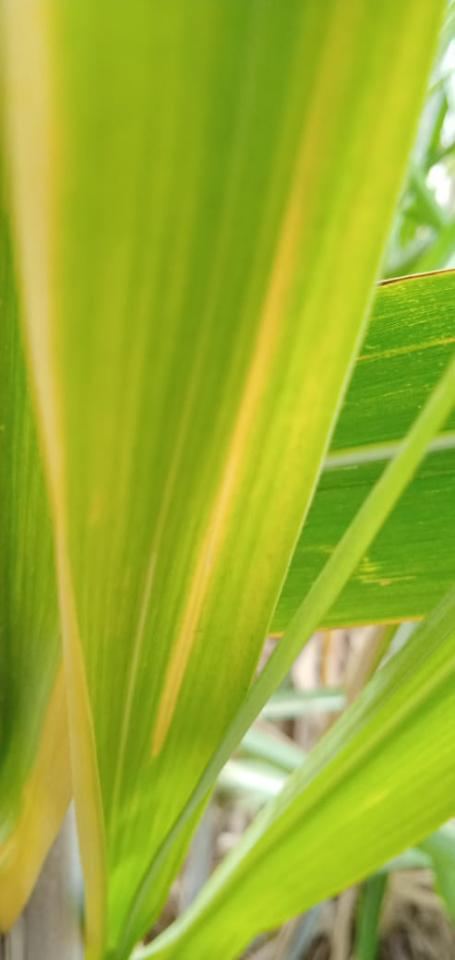Yellow: (0, 0, 107, 959), (150, 166, 311, 758), (0, 662, 74, 932), (315, 618, 424, 632), (267, 632, 284, 638)
